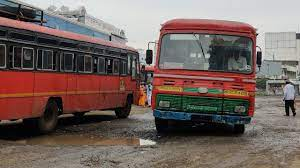bus: (144, 14, 266, 143), (1, 24, 141, 133)
